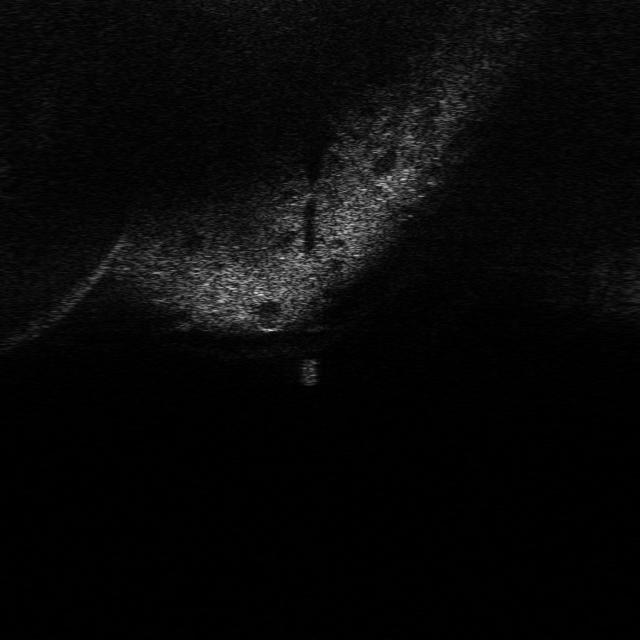cylinder: (294, 355, 324, 390)
